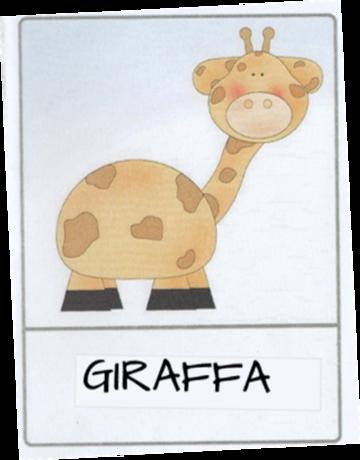giraffa: (3, 2, 360, 460)
